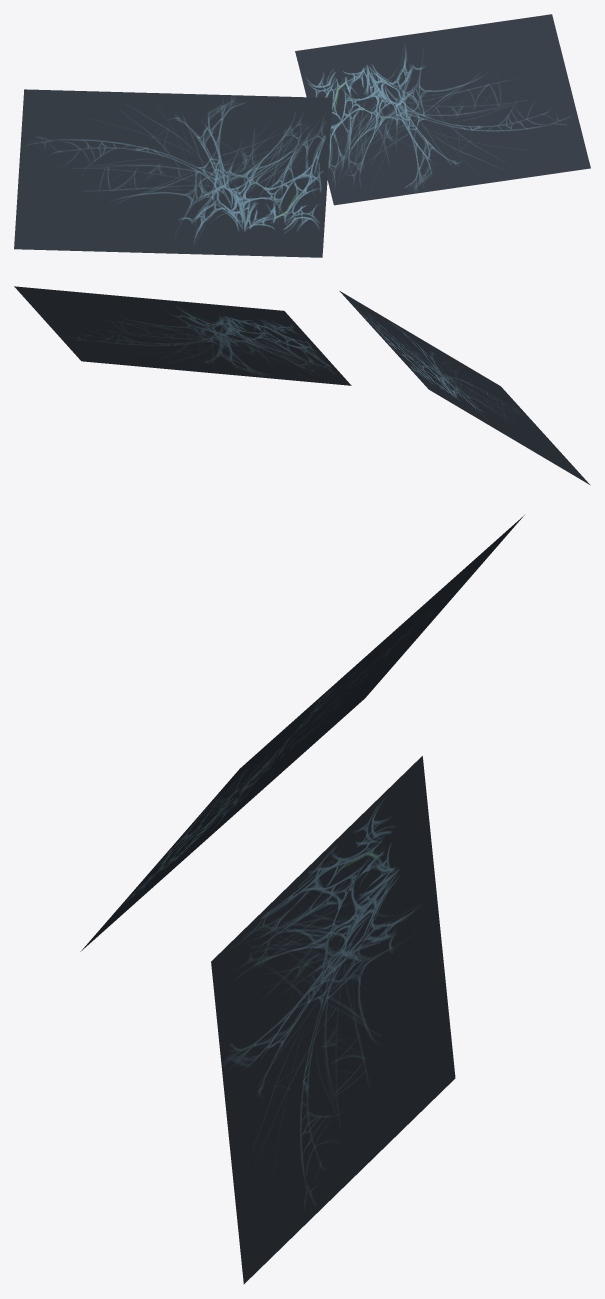
The model's file is daoju_16.fbx.
The picture shows the model from 3 angles, top to bottom: view 1: azimuth 30°, elevation 25°; view 2: azimuth 150°, elevation 25°; view 3: azimuth 270°, elevation 25°; orthographic projection. The views are drawn at different scales.
Visible parts, largest first — view 1: daoju_16; view 2: daoju_16; view 3: daoju_16.
Part boxes in pixels (box(x1,y1,x2,y2)): daoju_16: box(14, 14, 590, 257); daoju_16: box(14, 286, 590, 485); daoju_16: box(80, 515, 524, 1284).
Size of the model in its own units: 910 by 229 by 317.
1 material, 1 textured.
